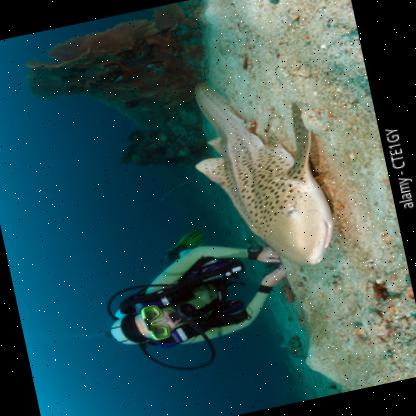zebra_shark: (149, 39, 352, 318)
